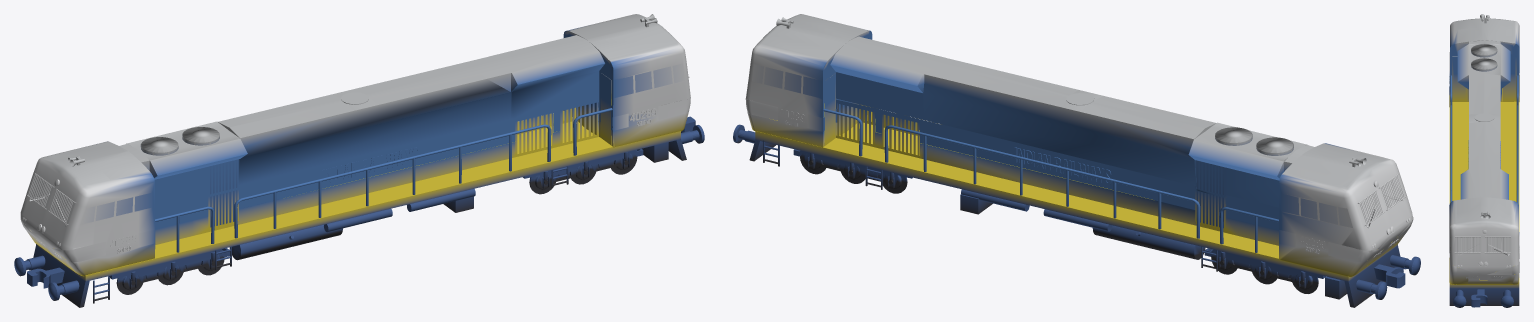
The model's file is wdp4d.glb.
3 views of the same model, side by side, from view 1: azimuth 30°, elevation 25°; view 2: azimuth 150°, elevation 25°; view 3: azimuth 270°, elevation 25° (orthographic). The views are drawn at different scales.
Parts seen in each view (by area): view 1: Object_2; view 2: Object_2; view 3: Object_2.
Boxes of the visible parts, x1=… form: Object_2: x1=14, y1=14, x2=704, y2=307; Object_2: x1=733, y1=14, x2=1420, y2=307; Object_2: x1=1449, y1=14, x2=1519, y2=307.
Size of the model in its own units: 8.07 by 1.57 by 1.07.
